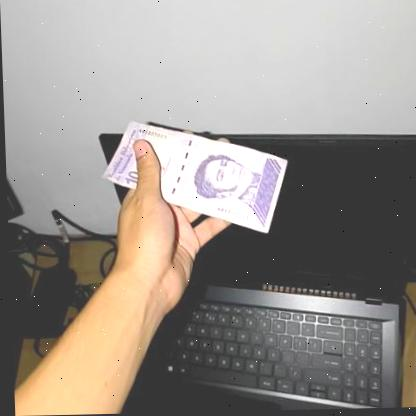ten-front-vef: (99, 118, 291, 239)
